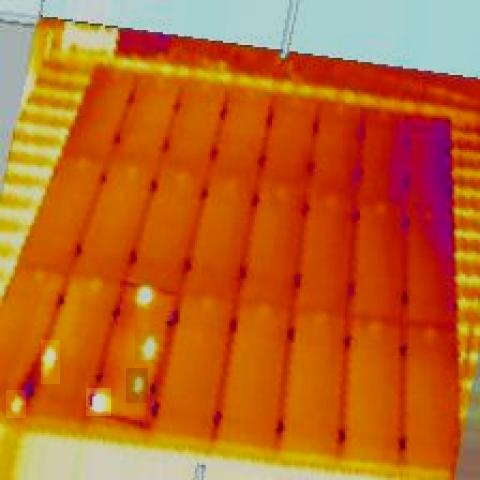fault: (135, 330, 161, 364), (41, 340, 60, 384), (131, 278, 154, 313), (126, 368, 148, 403), (86, 388, 111, 416), (6, 390, 26, 418)
